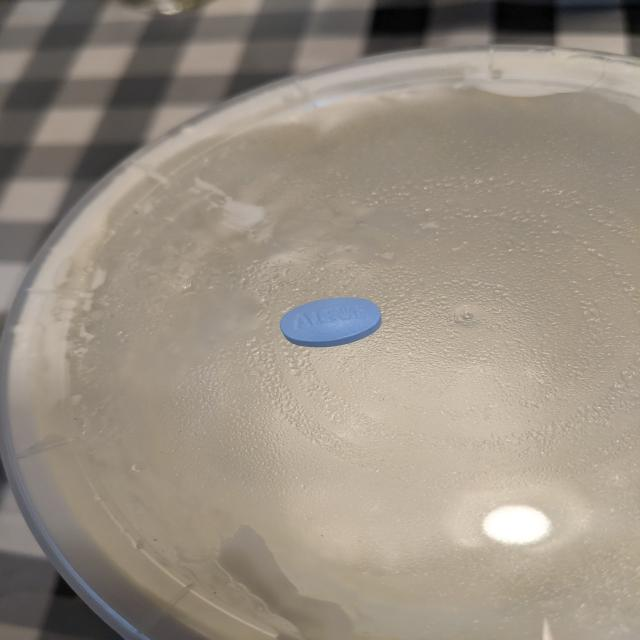non-organic waste: (278, 296, 384, 349)
